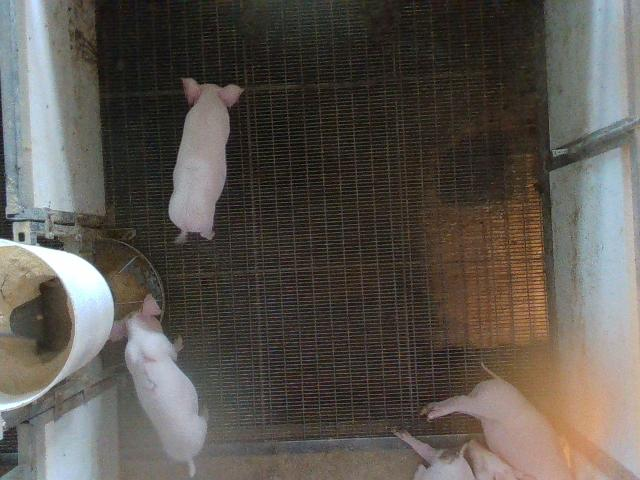pig-5: (110, 294, 208, 476)
